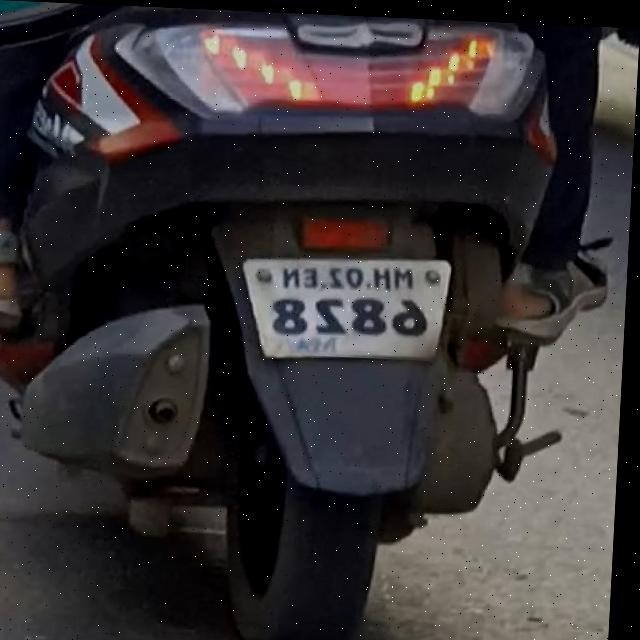plate: (242, 245, 457, 364)
